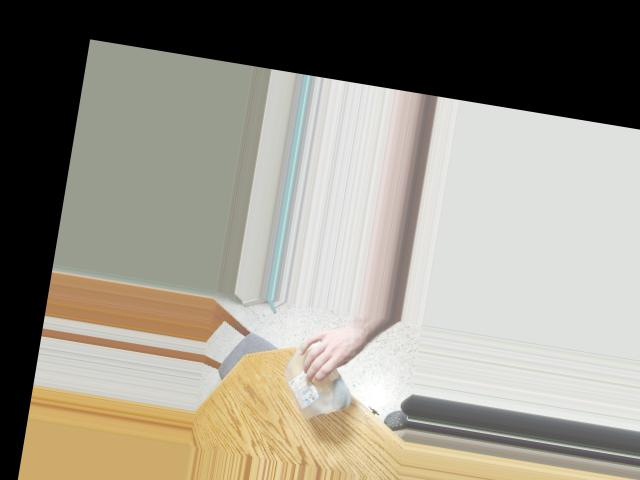cheese: (272, 331, 351, 425)
